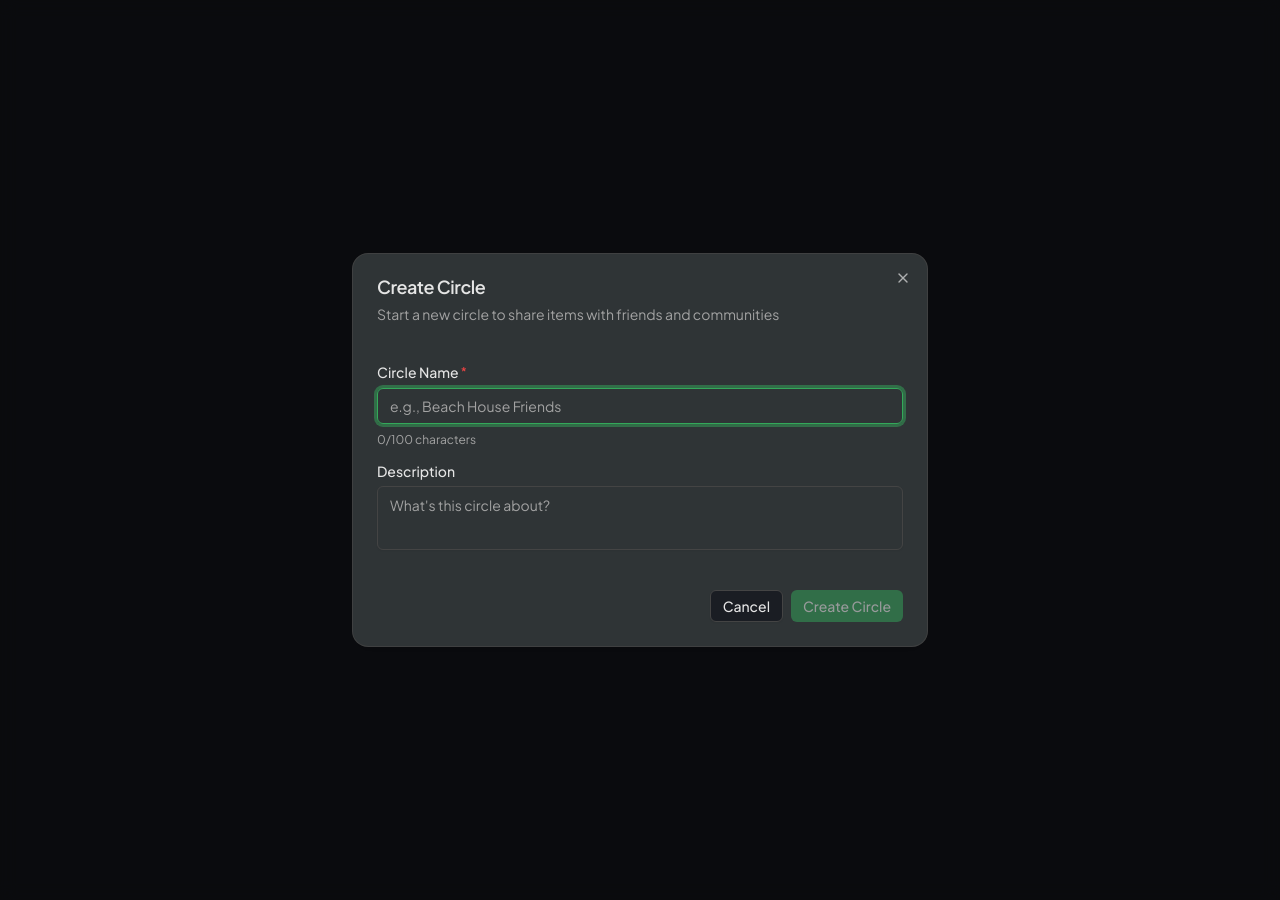
Test: CreateCircleModal — duplicate names › surfaces the 409 when the user already has a circle with that name
In the field with placeholder "e.g., Beach House Friends": (640, 406) [377,388,903,424], type "Family"
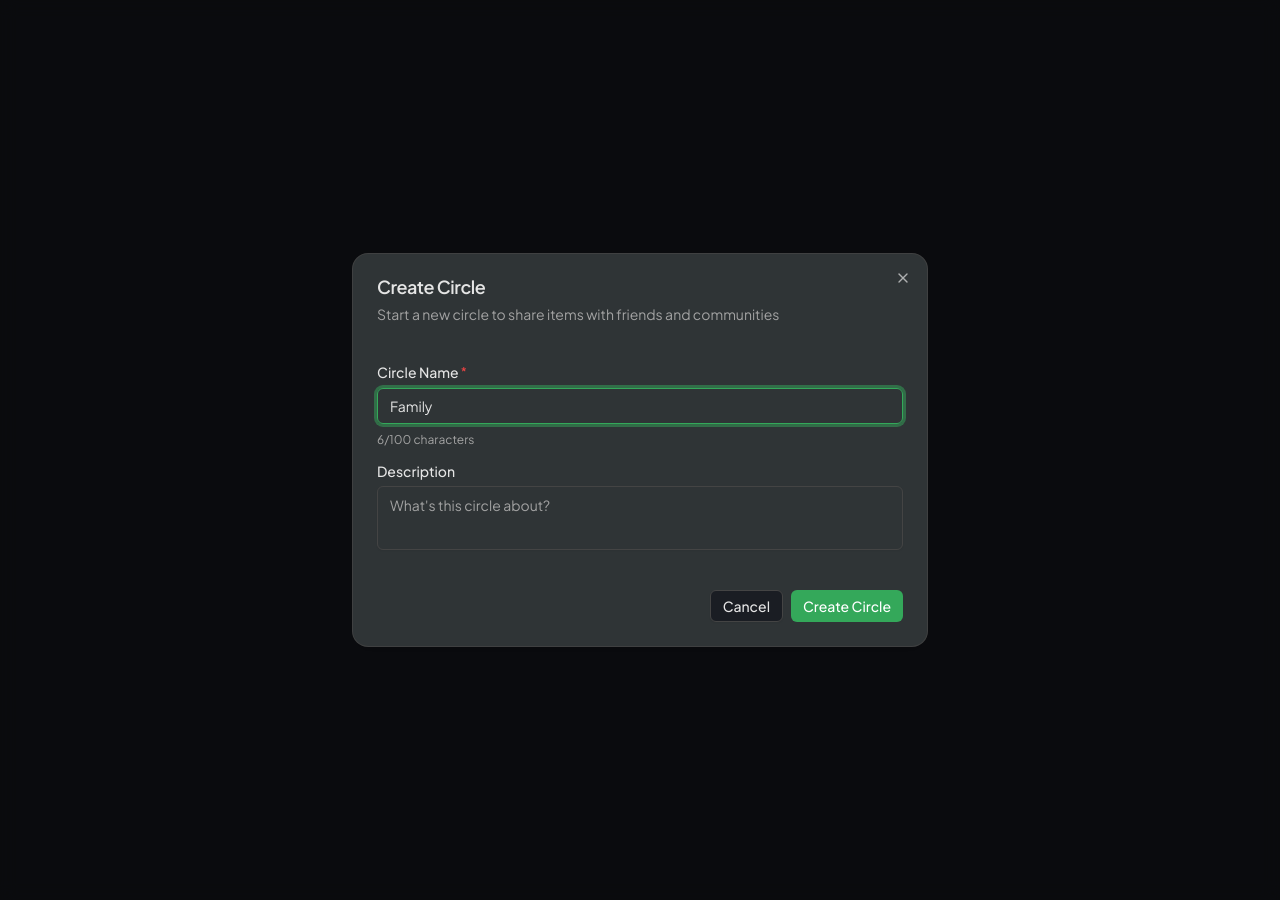
Click the button "Create Circle": (847, 606) [791,590,903,622]
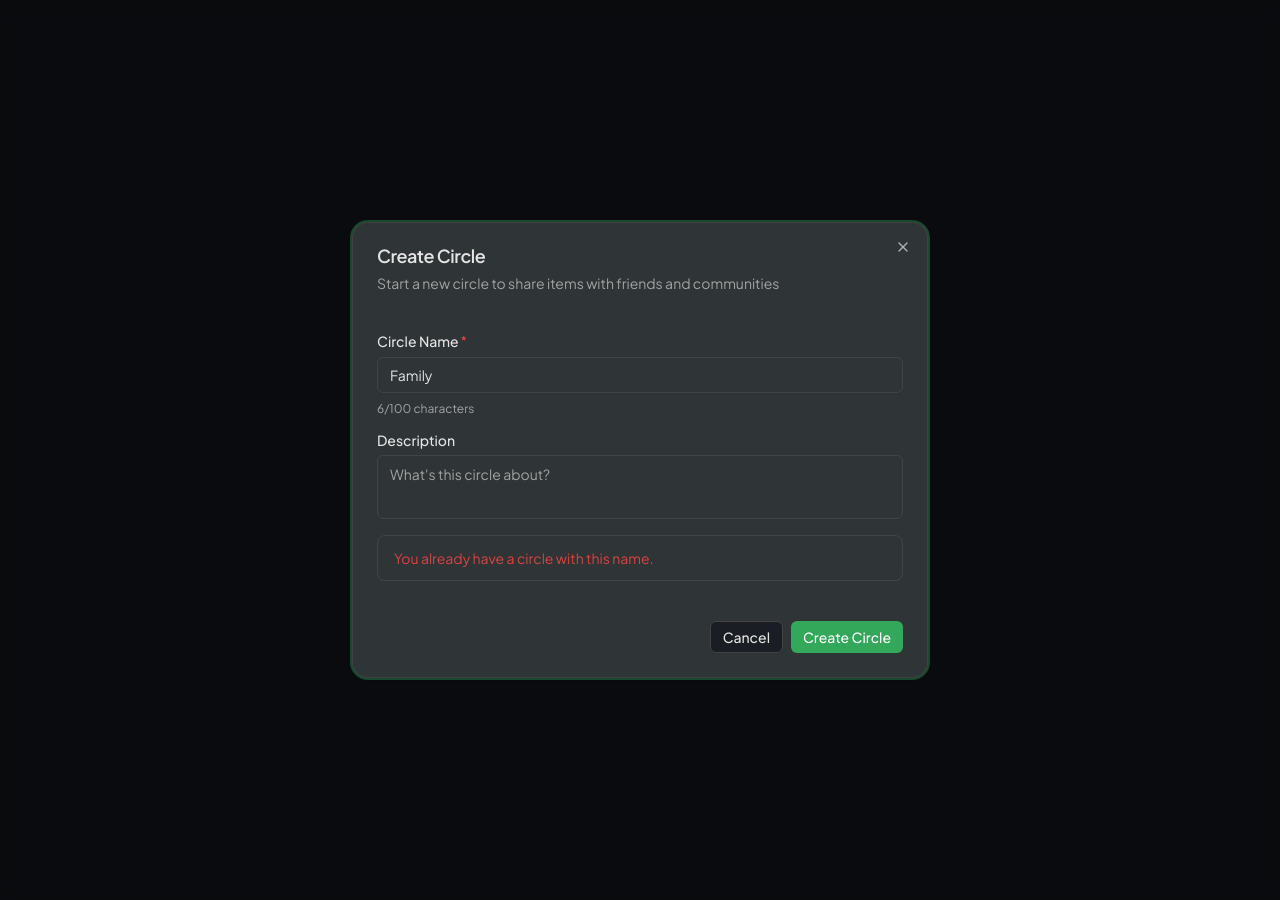
Result: the text "You already have a circle with this name." is shown at [394,549,654,567]
